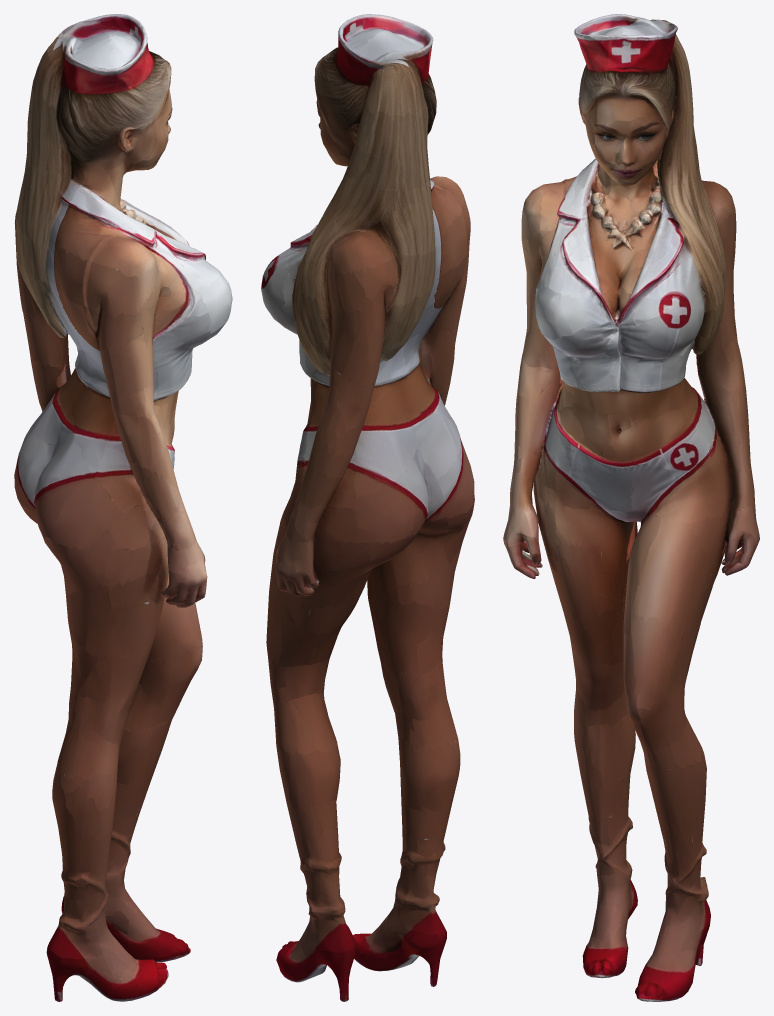
Rendered from sestricka_cervena.glb.
3 renders of one model, left to right at view 1: azimuth 30°, elevation 25°; view 2: azimuth 150°, elevation 25°; view 3: azimuth 270°, elevation 25°, orthographic.
Visible parts, largest first — view 1: sestricka_cervena; view 2: sestricka_cervena; view 3: sestricka_cervena.
Part boxes in pixels (x1,y1,x2,y2): sestricka_cervena: (14,14,232,1001); sestricka_cervena: (261,14,474,1001); sestricka_cervena: (503,14,759,1001).
Bounding box in the file's own units: 0.3398 × 1.75 × 0.4308.
Materials: 1 (1 with a texture image).
